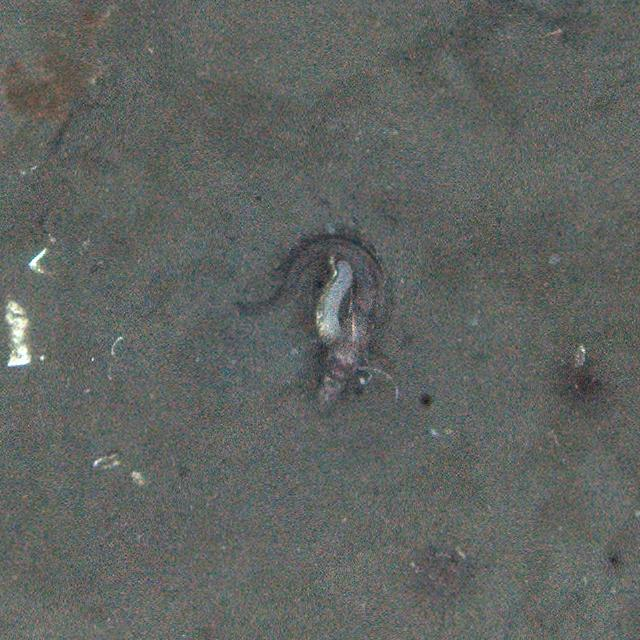roundfish: (233, 229, 403, 413)
